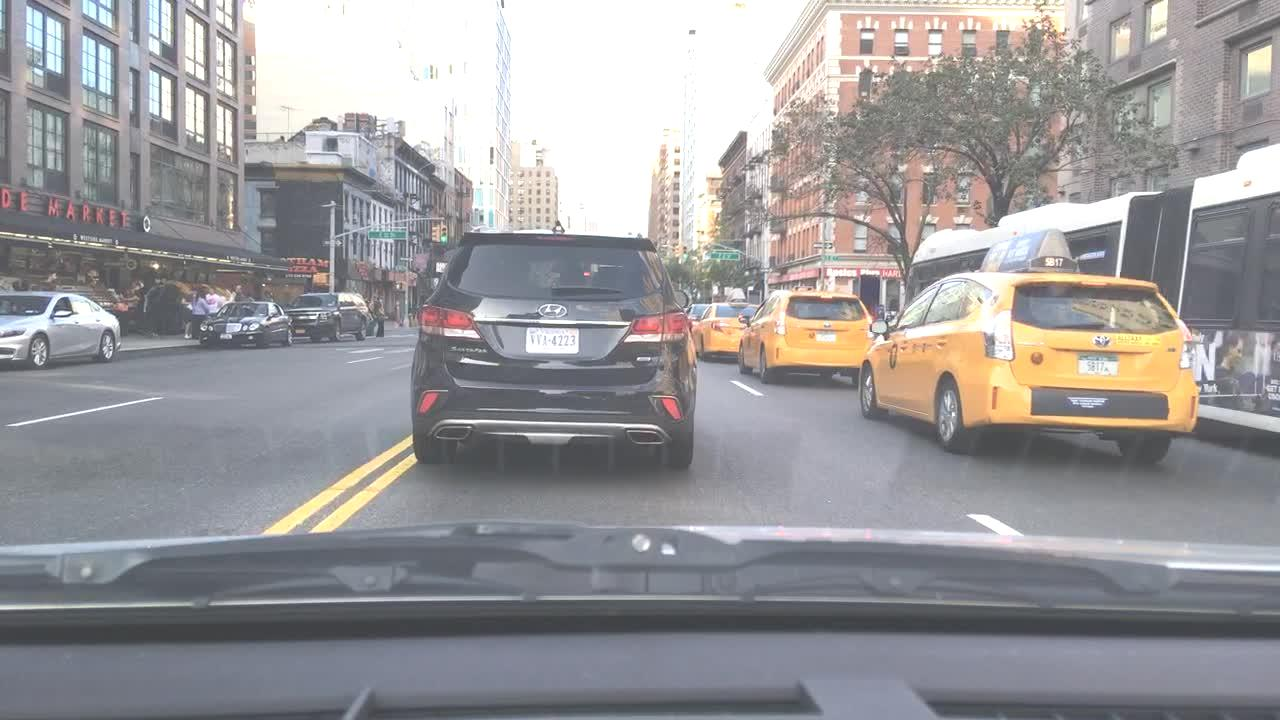Hyundai: (537, 300, 571, 323)
Toyota: (1088, 331, 1116, 347)
